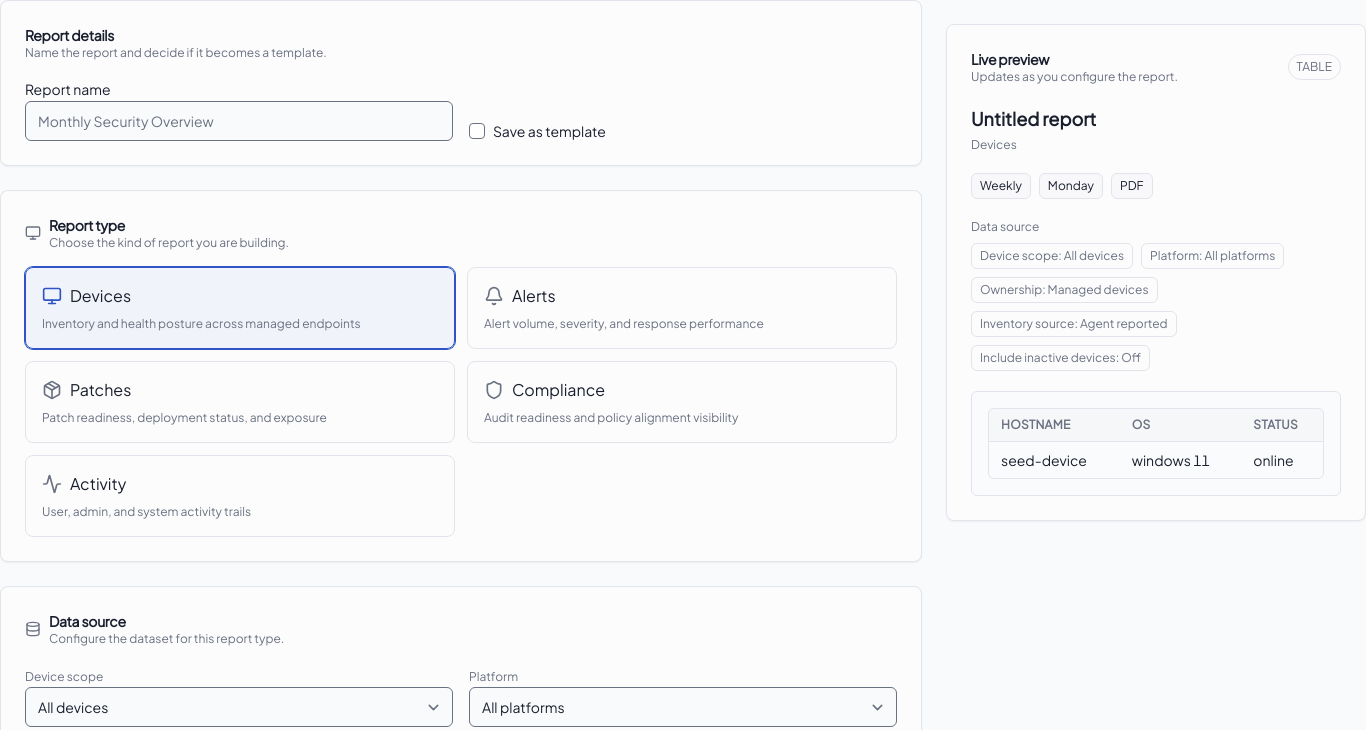
Test: ReportBuilder live preview › renders chart series from live summary payload
This screenshot has width=1366, height=730.
Check: the text "seed-device" is shown, box [989, 442, 1120, 478]
Click the button "Alerts Alert volume, severity, and response performance" at (534, 296), box [467, 267, 897, 349]
(page scrolled)
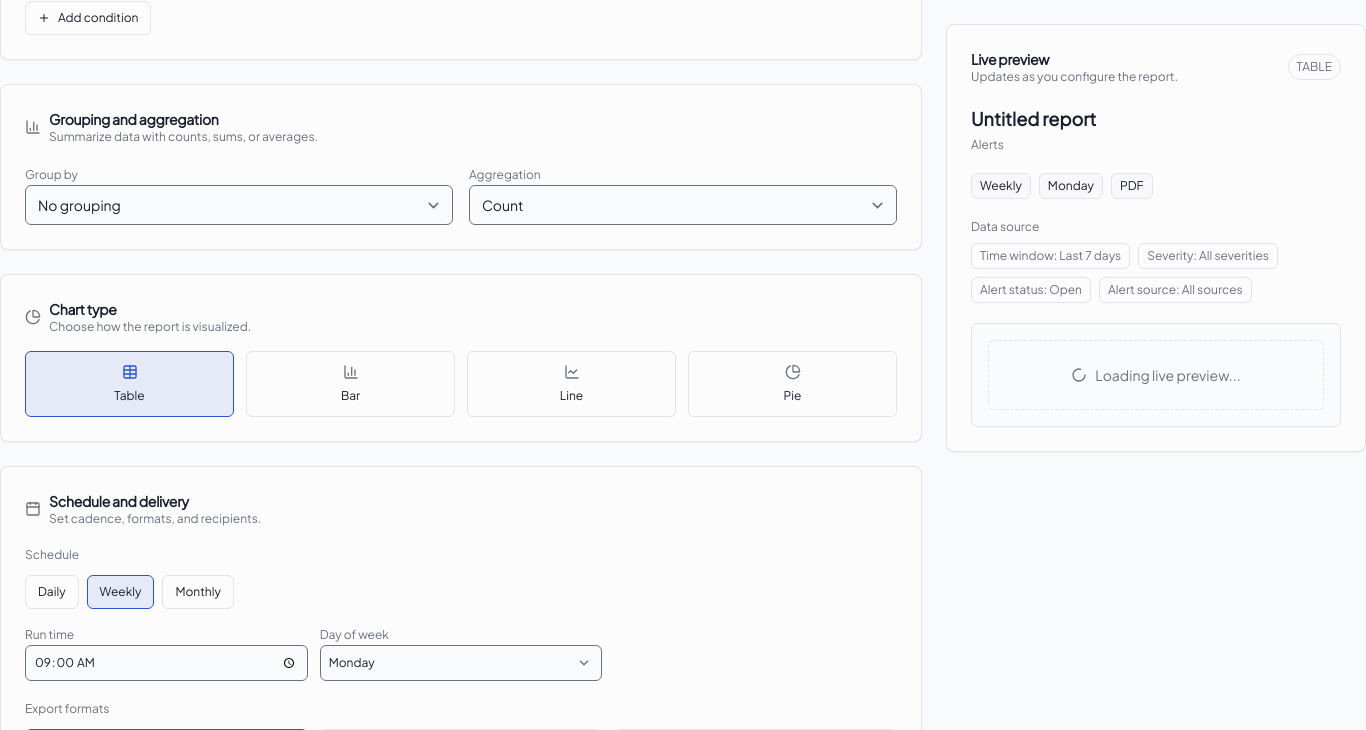
Click the button "Bar" at (350, 384), box [246, 351, 455, 417]
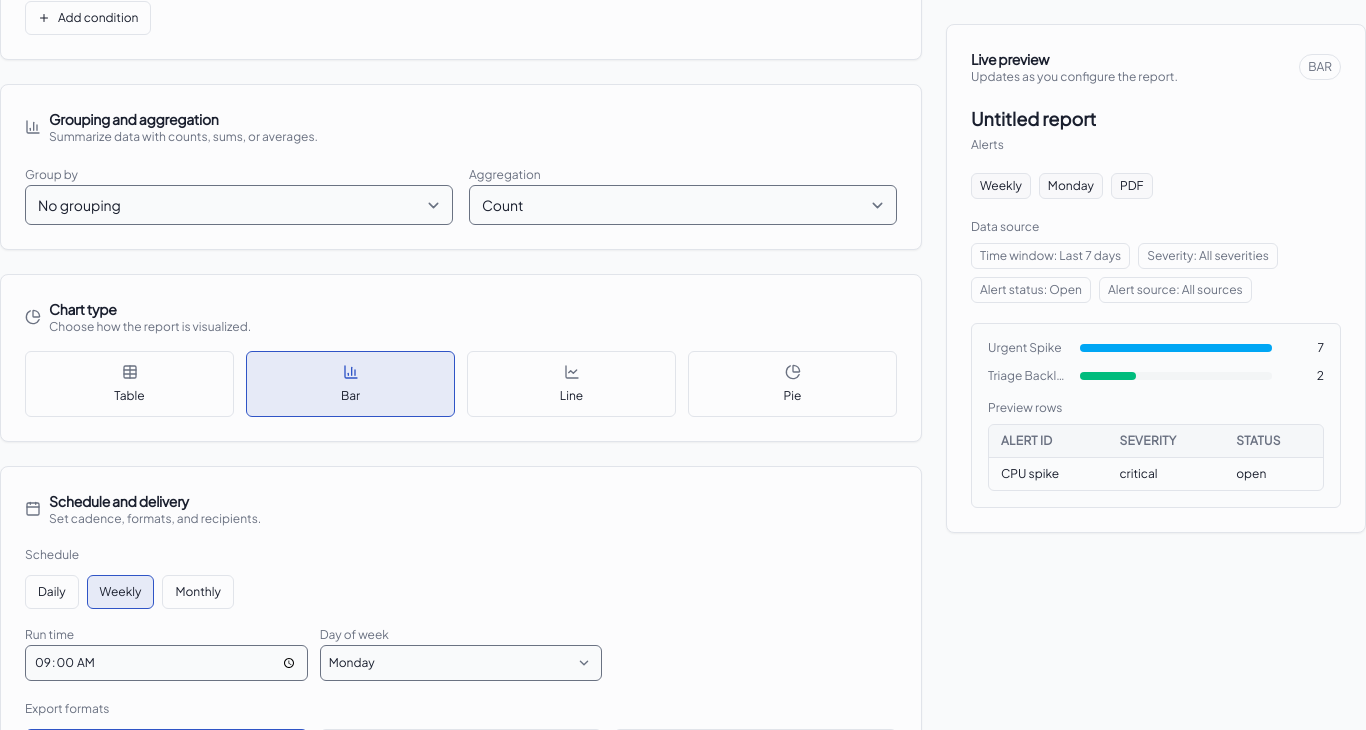
Check: the text "Urgent Spike" is shown, box [988, 340, 1068, 356]
Check: the text "Triage Backlog" is shown, box [988, 368, 1068, 384]
